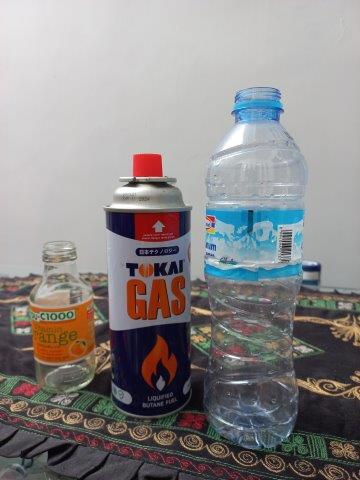botolkaca: (27, 241, 96, 391)
botolplastik: (206, 89, 308, 443)
kaleng: (104, 155, 192, 415)
